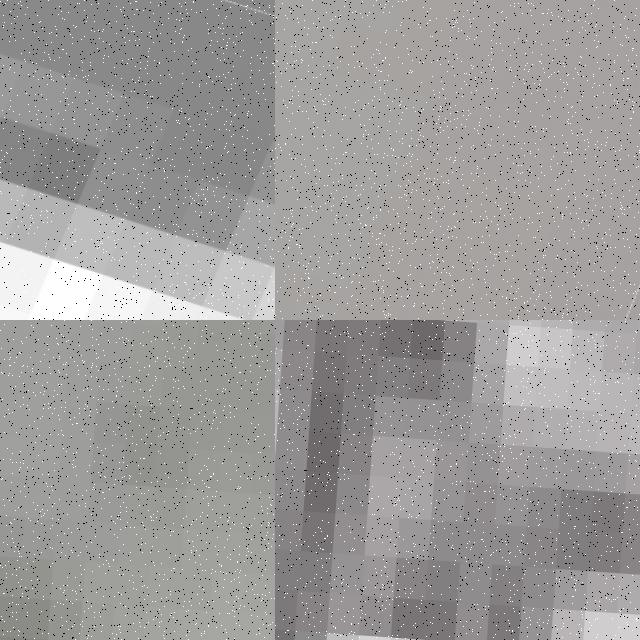0: (0, 0, 275, 320)
drone: (275, 0, 640, 320)
